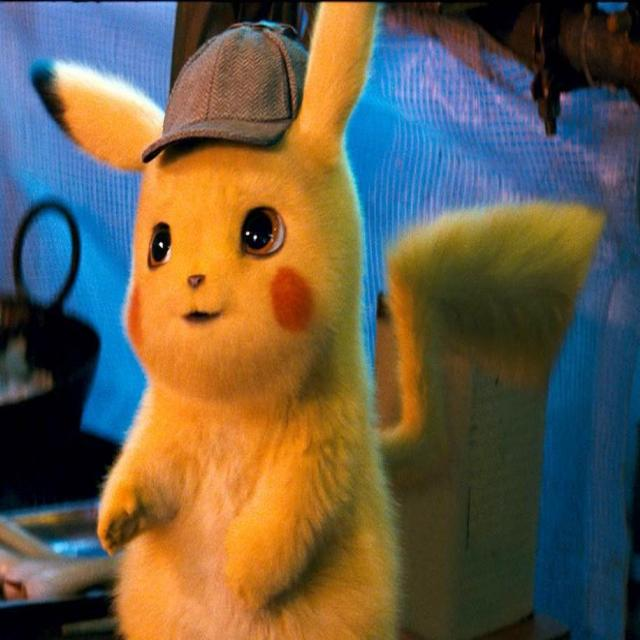pikachu: (29, 4, 606, 640)
